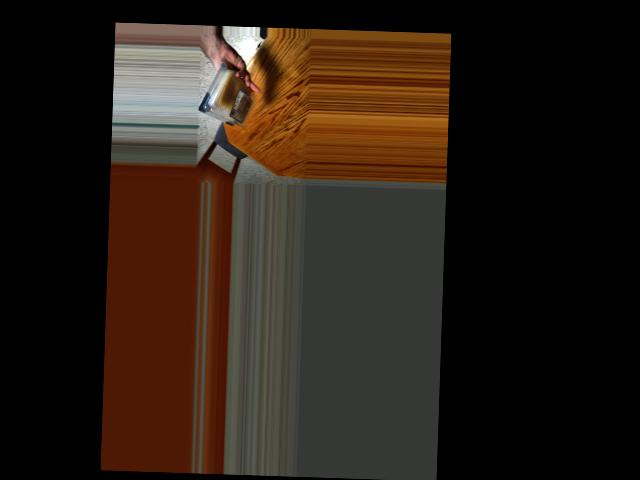cheese: (206, 67, 250, 127)
